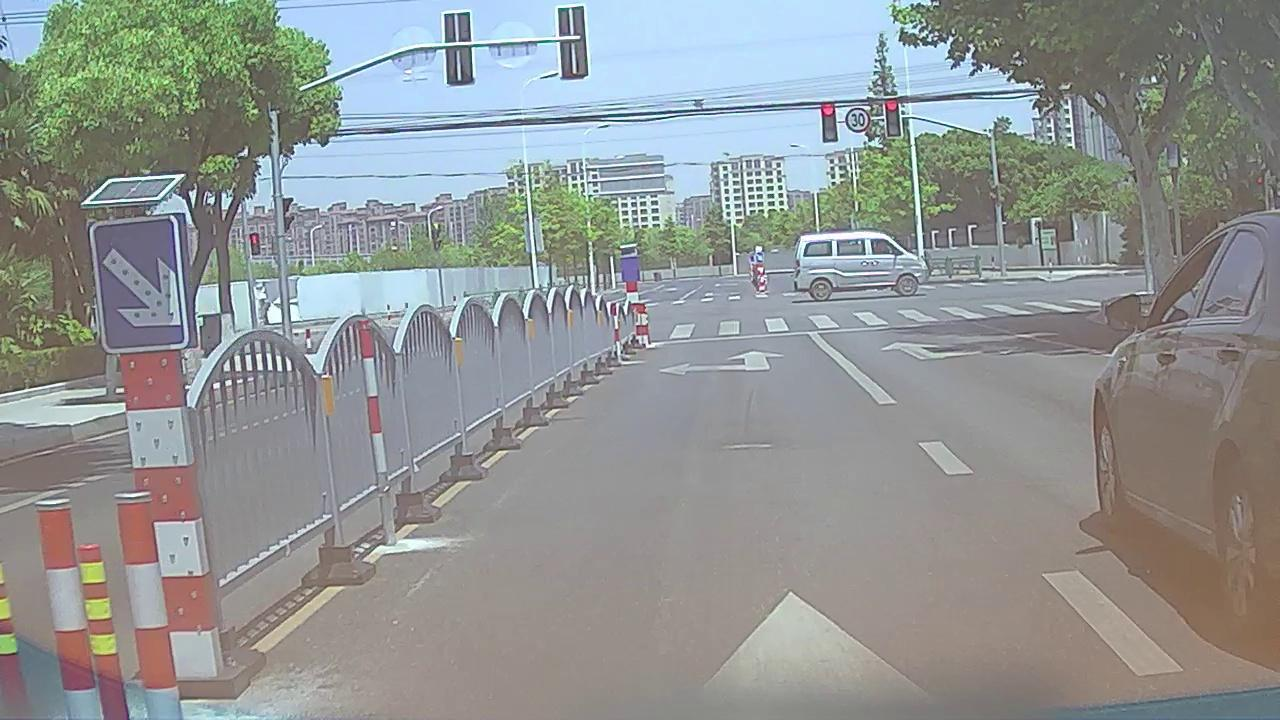traffic_light: (822, 101, 837, 141), (886, 98, 901, 137)
